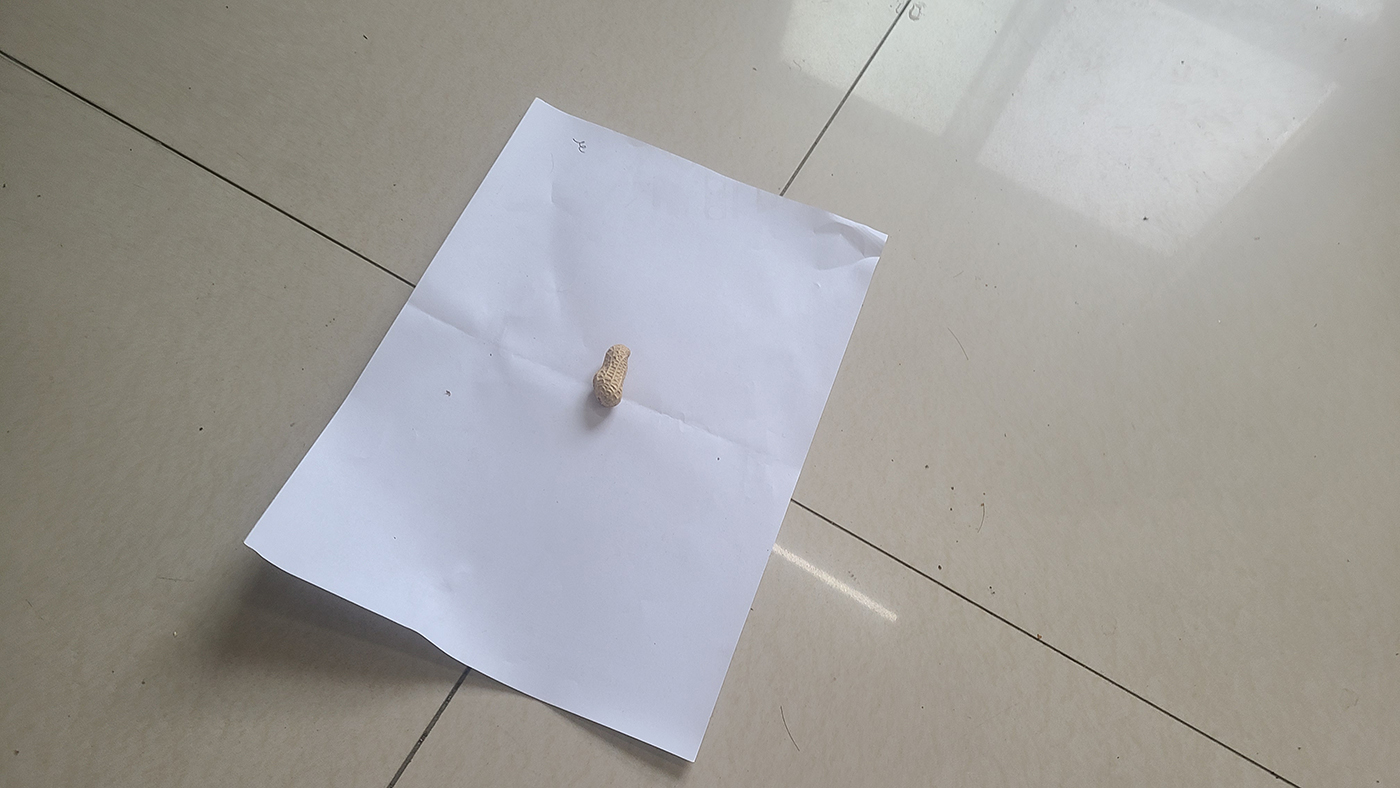h: (591, 345, 632, 410)
